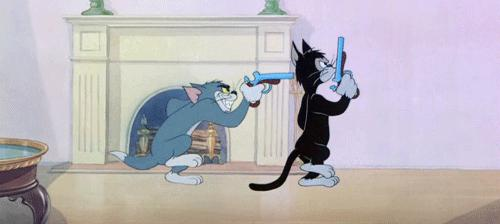tom: (104, 80, 265, 189)
